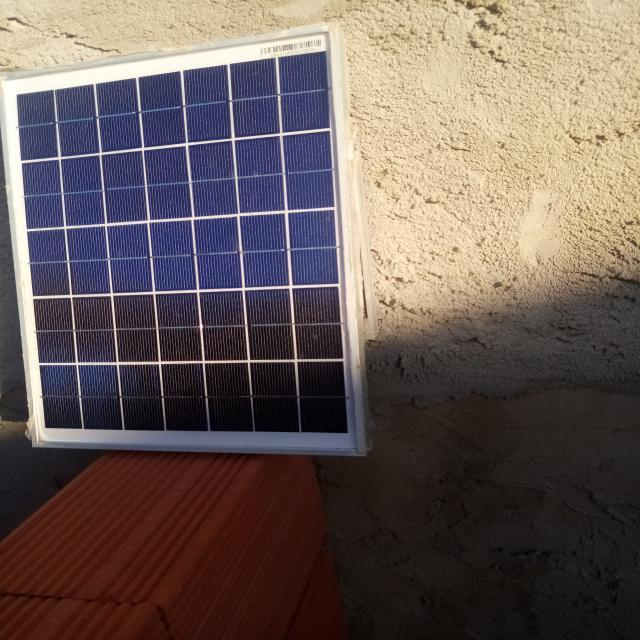Normal Solar Panel: (0, 31, 357, 452)
